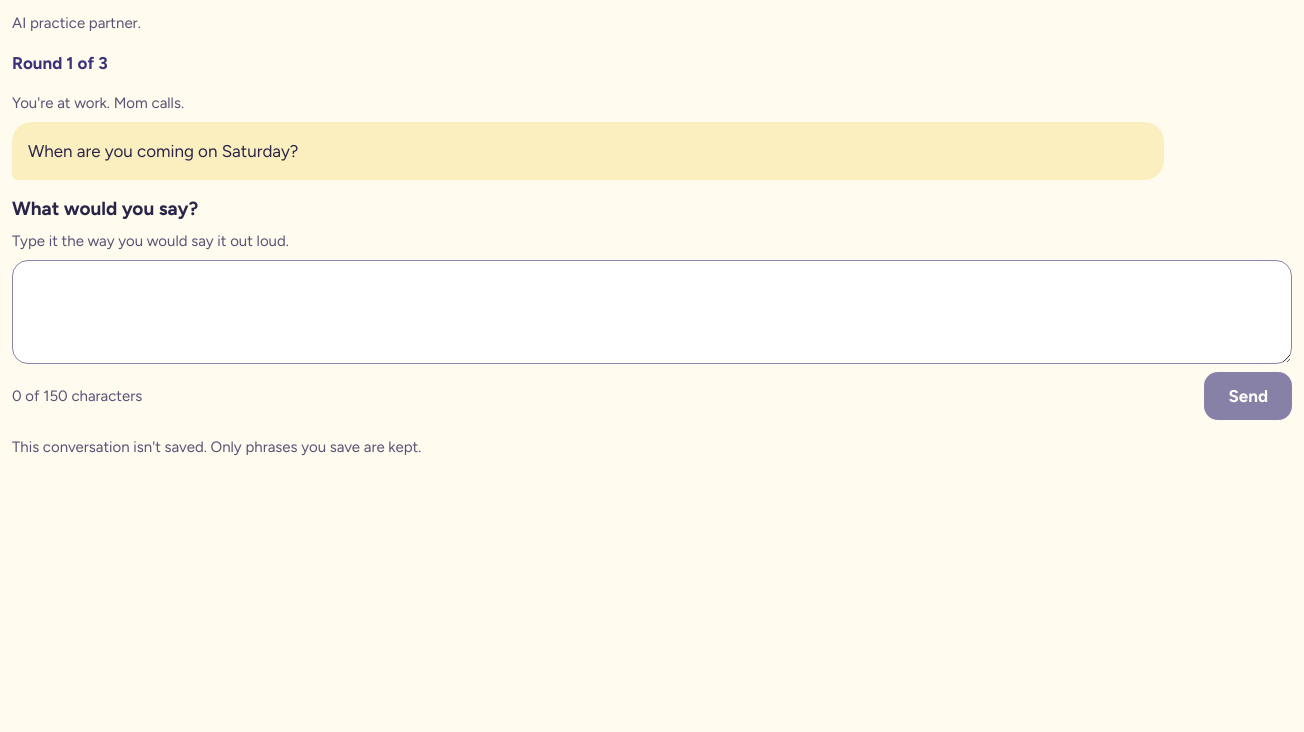
RoleplayRoom (AI path) › shows score, goals and tip exactly as the server returned them (medical: score 0, fixed tip)
The image size is (1304, 732).
Type "Should she take more pills?" into the text box labelled "What would you say?" at point(652, 312), box [12,260,1292,364]
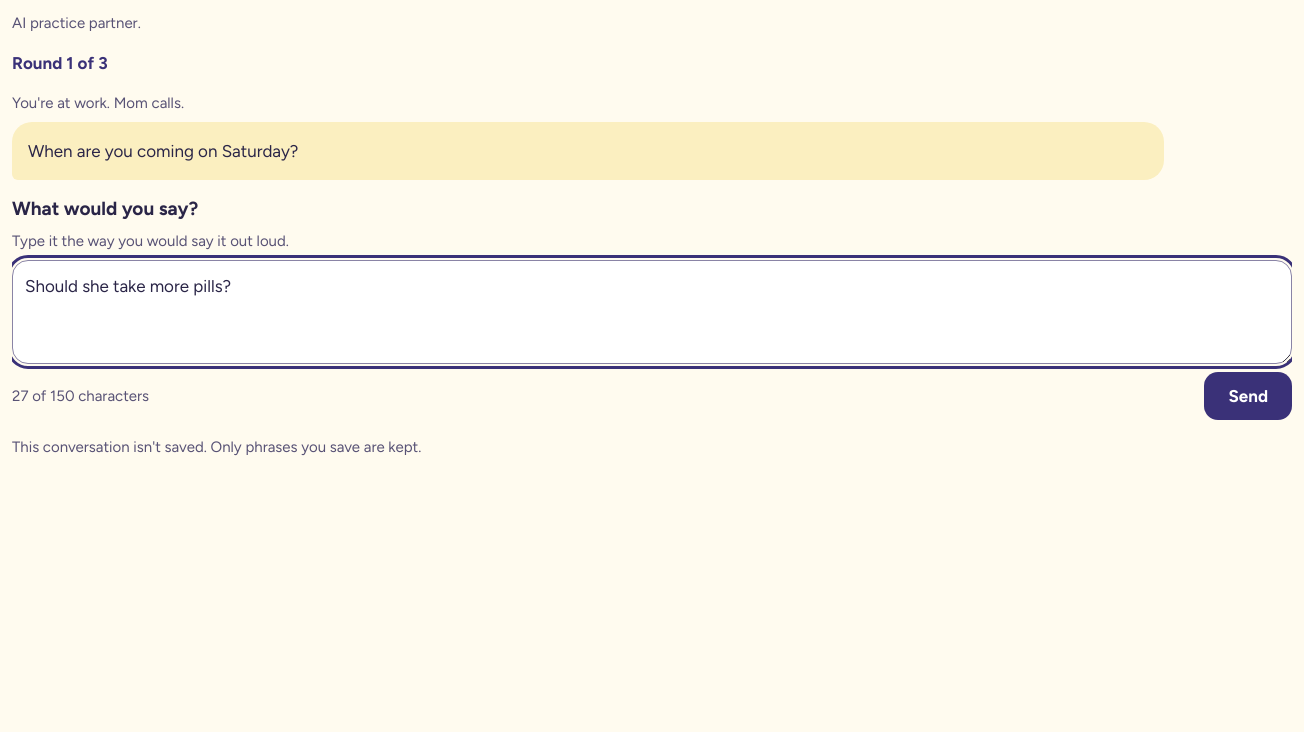
Click the button "Send" at point(1248, 396), box [1204,372,1292,420]
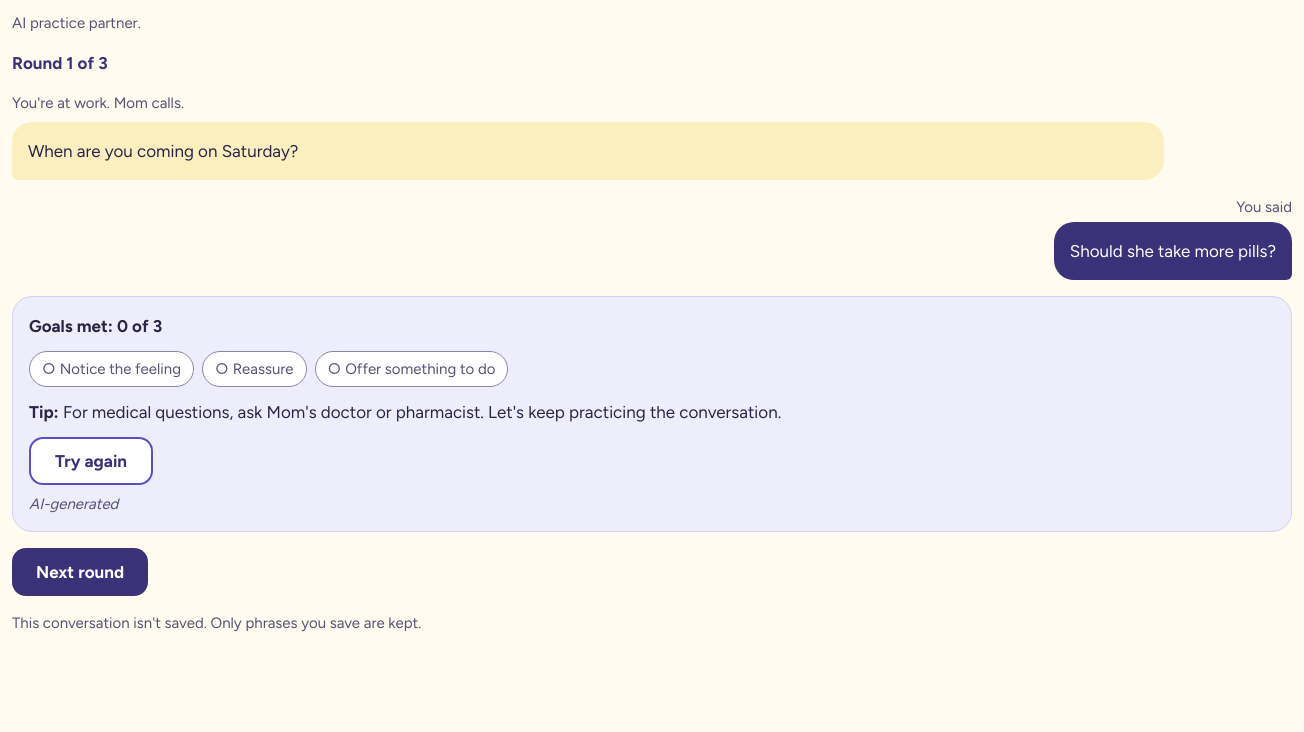
Expected: the text "AI-generated" is shown, [29,493,118,515]
Expected: the text "Goals met: 0 of 3" is shown, [29,313,162,339]
Expected: the text "ask Mom's doctor or pharmacist" is shown, [63,402,781,422]
